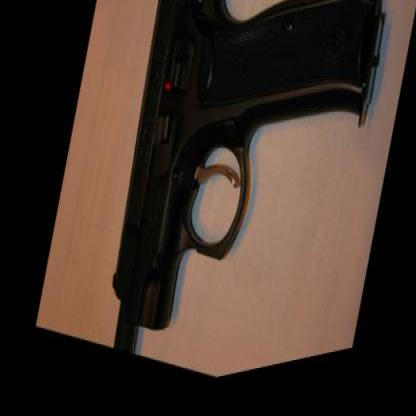pistol: (51, 0, 415, 407)
